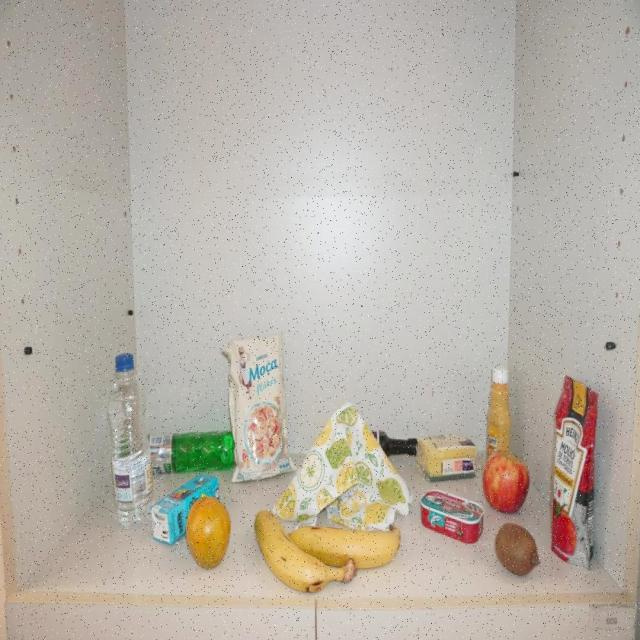Apple: (483, 450, 530, 514)
Banana: (254, 510, 357, 593), (288, 526, 400, 570)
Cleaner: (149, 430, 235, 474)
Cloth: (273, 402, 410, 532)
CoconutWater: (150, 474, 220, 545)
CornFlakes: (220, 332, 296, 484)
EnglishSauce: (374, 431, 419, 459)
Kiwi: (495, 523, 541, 578)
Mustard: (487, 369, 512, 461)
Orange: (186, 497, 232, 570)
Sponge: (415, 435, 479, 486)
TomatoSauce: (551, 376, 599, 571)
TunaCan: (420, 490, 484, 544)
Water: (109, 353, 154, 530)
